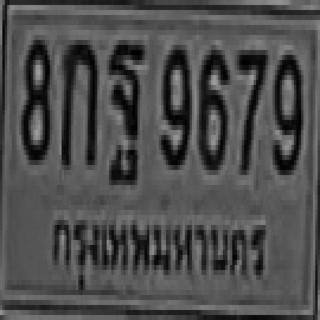A01: (59, 35, 95, 165)
A16: (107, 38, 142, 162)
N06: (197, 45, 228, 165)
N07: (235, 45, 265, 170)
N08: (19, 35, 50, 160)
N09: (270, 50, 301, 170), (160, 40, 188, 165)
P04: (47, 208, 268, 298)
